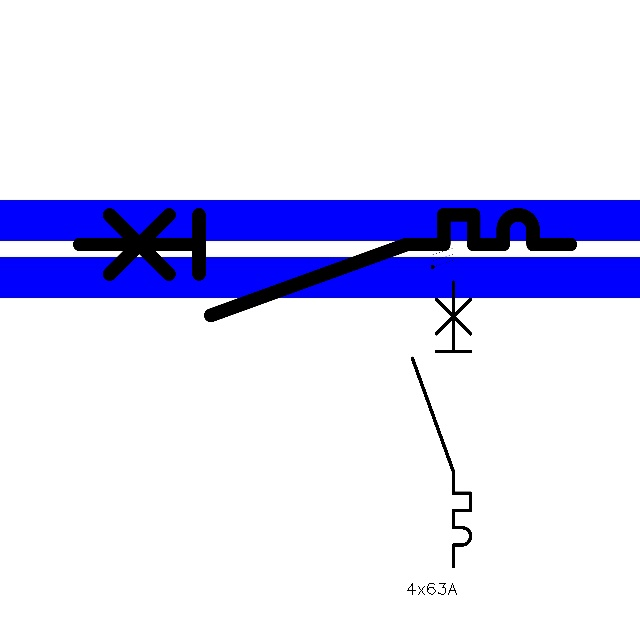interruptor_termomagnetico: (67, 202, 583, 328), (405, 274, 478, 573)
